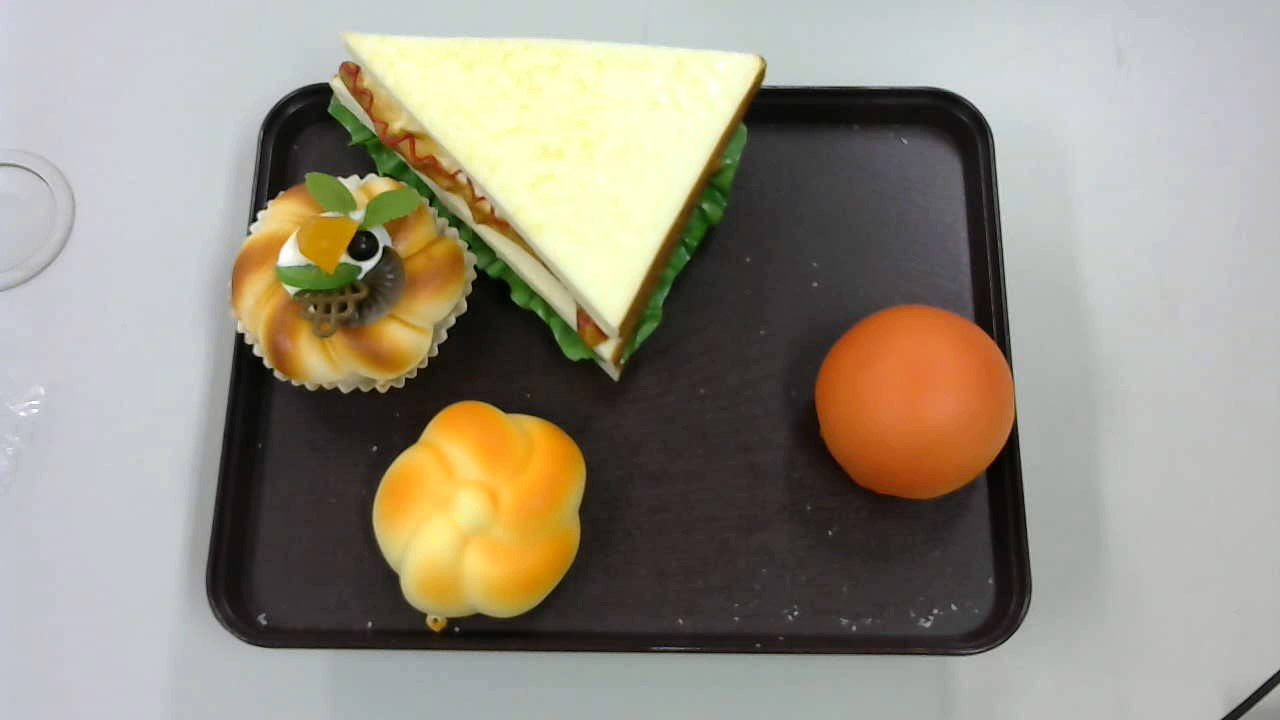bun: (814, 304, 1013, 500)
fruit tart: (229, 169, 476, 388)
sandwich: (327, 30, 767, 382)
twist bread: (370, 400, 587, 635)
